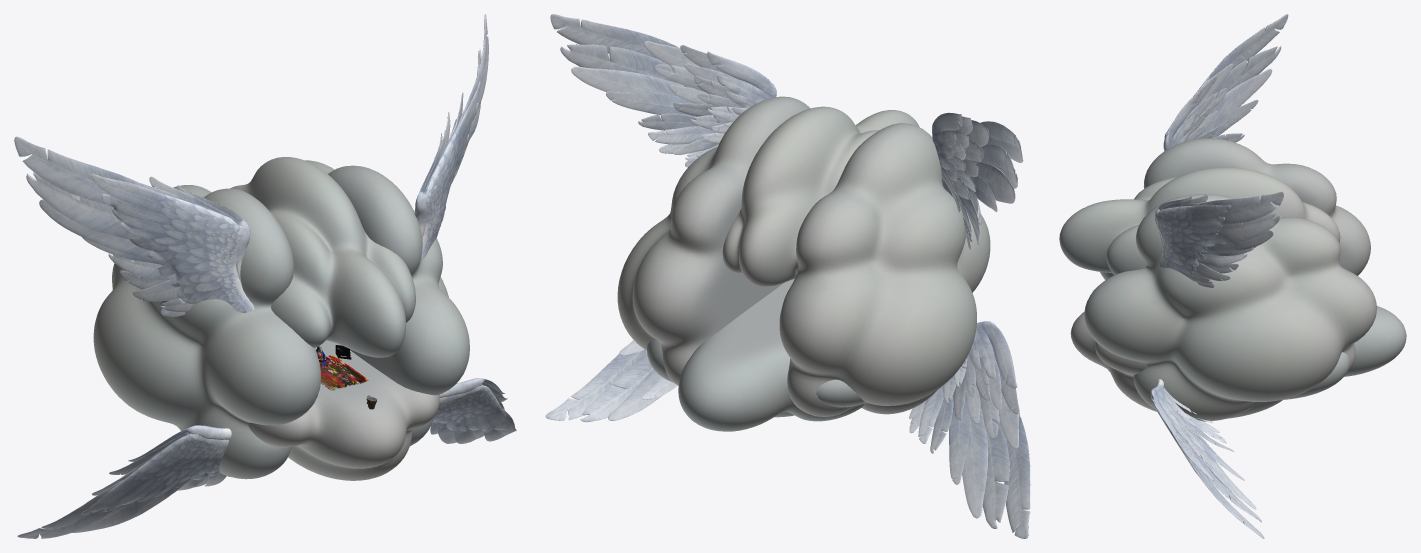
The model's file is NUBE.glb.
The picture shows the model from 3 angles, left to right: view 1: azimuth 30°, elevation 25°; view 2: azimuth 150°, elevation 25°; view 3: azimuth 270°, elevation 25°; orthographic projection. The views are drawn at different scales.
Parts seen in each view (by area): view 1: node_id178, node_id116, node_id172, node_id184, node_id190, node_id124, node_id132, node_id148, node_id52; view 2: node_id178, node_id184, node_id132, node_id172, node_id124, node_id190, node_id116, node_id148; view 3: node_id184, node_id172, node_id132, node_id178, node_id116, node_id190, node_id148.
Boxes of the visible parts, left/top/right/bottom form: node_id178: left=93, top=185, right=320, bottom=479; node_id116: left=14, top=136, right=254, bottom=316; node_id172: left=230, top=157, right=415, bottom=357; node_id184: left=305, top=160, right=469, bottom=445; node_id190: left=248, top=340, right=439, bottom=480; node_id124: left=17, top=392, right=319, bottom=538; node_id132: left=414, top=14, right=488, bottom=259; node_id148: left=430, top=378, right=516, bottom=443; node_id52: left=320, top=355, right=368, bottom=390; node_id178: left=779, top=123, right=990, bottom=416; node_id184: left=617, top=96, right=810, bottom=385; node_id132: left=550, top=14, right=776, bottom=167; node_id172: left=722, top=106, right=919, bottom=286; node_id124: left=909, top=321, right=1030, bottom=538; node_id190: left=646, top=279, right=866, bottom=431; node_id116: left=932, top=112, right=1023, bottom=249; node_id148: left=545, top=340, right=677, bottom=422; node_id184: left=1084, top=194, right=1376, bottom=421; node_id172: left=1059, top=167, right=1340, bottom=274; node_id132: left=1155, top=192, right=1283, bottom=287; node_id178: left=1100, top=138, right=1370, bottom=280; node_id116: left=1163, top=14, right=1288, bottom=150; node_id190: left=1070, top=306, right=1406, bottom=418; node_id148: left=1150, top=379, right=1264, bottom=538.
Bounding box in the file's own units: 1.06 × 0.8543 × 0.7891.
16 materials, 16 textured.
